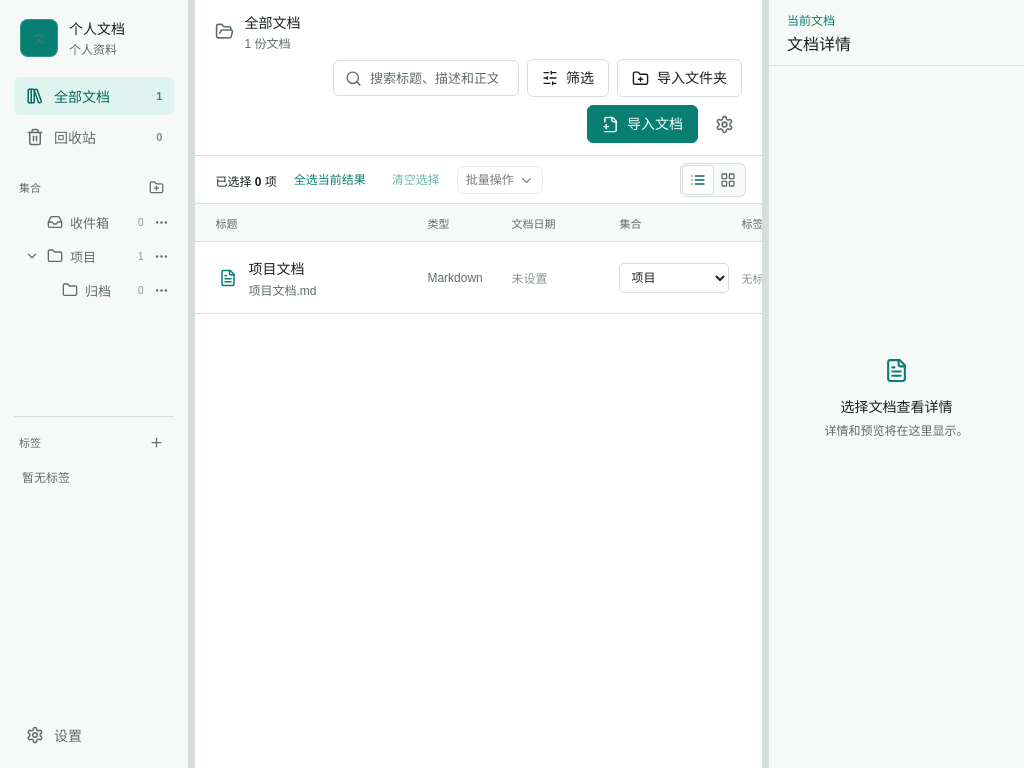
Test: 集合管理流程 › updates the active collection immediately after moving a document
Expected: the text "项目文档" is shown, 248,260 -> 304,276
Click the button "项目 1": (95, 256) 43,240 -> 147,272
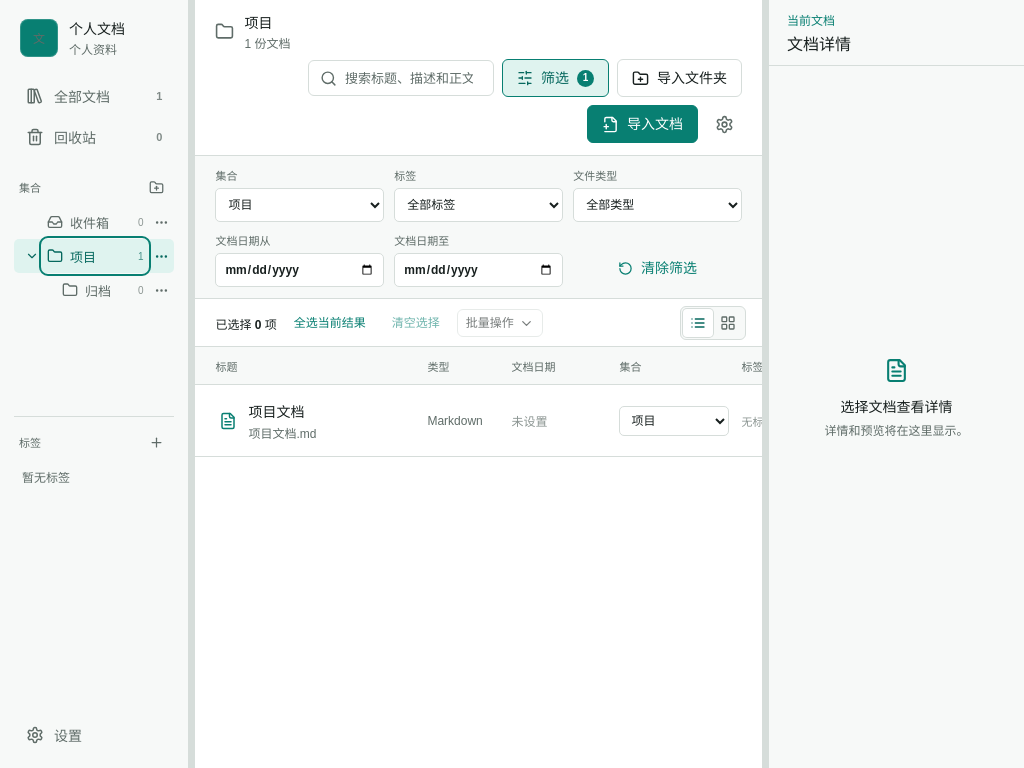
Select "归档" in the dropdown named "移动 项目文档 到集合": (674, 420) 619,406 -> 729,436
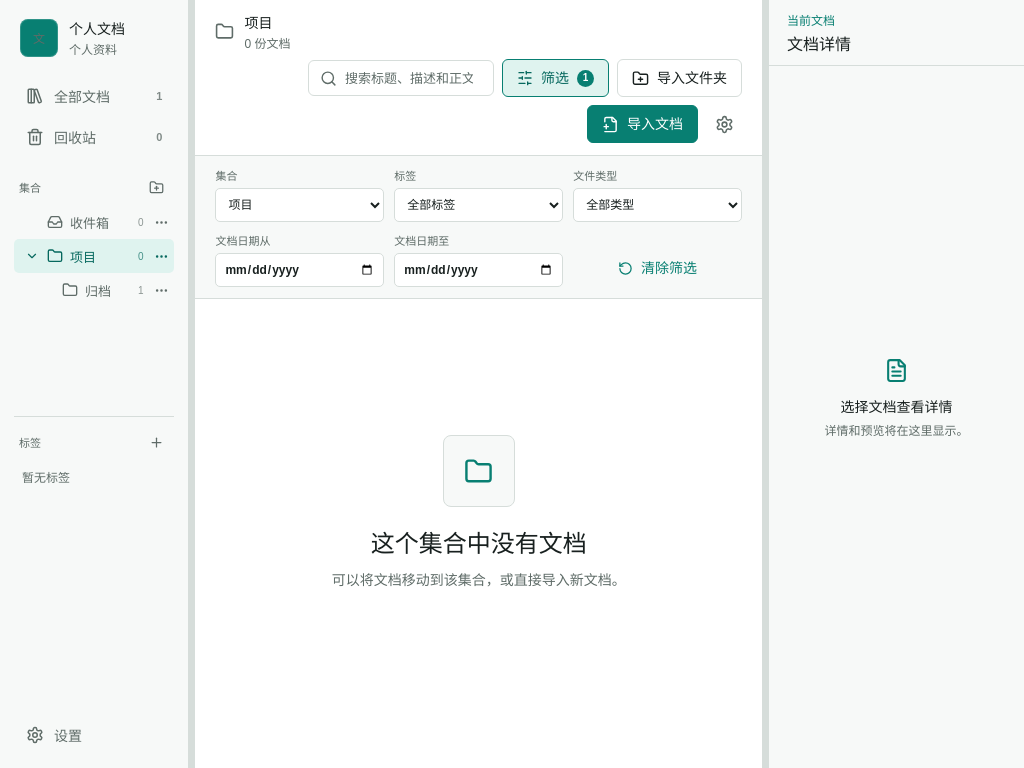
Expected: the button "项目文档" is gone
Expected: the heading "这个集合中没有文档" is shown, 371,529 -> 587,559
